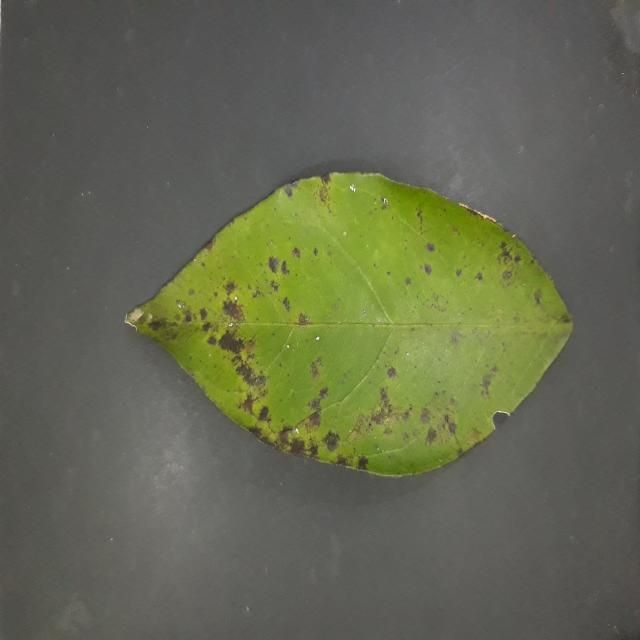greasy_spot: (126, 173, 572, 475)
